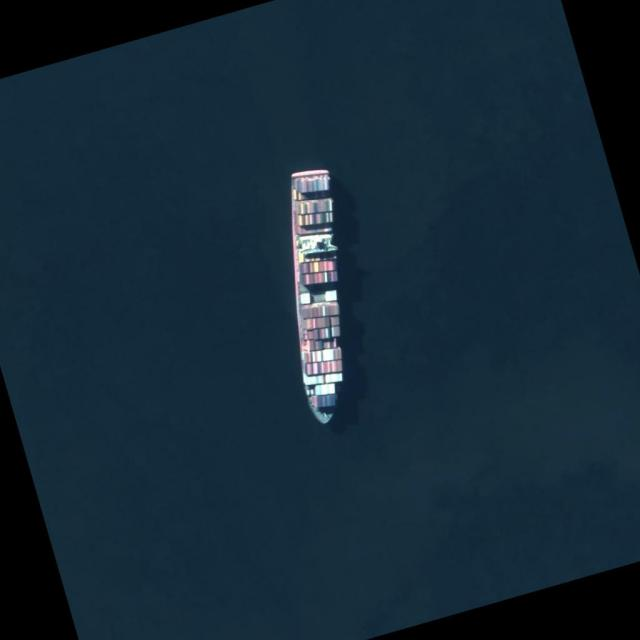ship: (314, 168, 327, 428)
